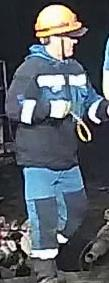helmet: (34, 4, 82, 39)
vest: (12, 56, 90, 169)
